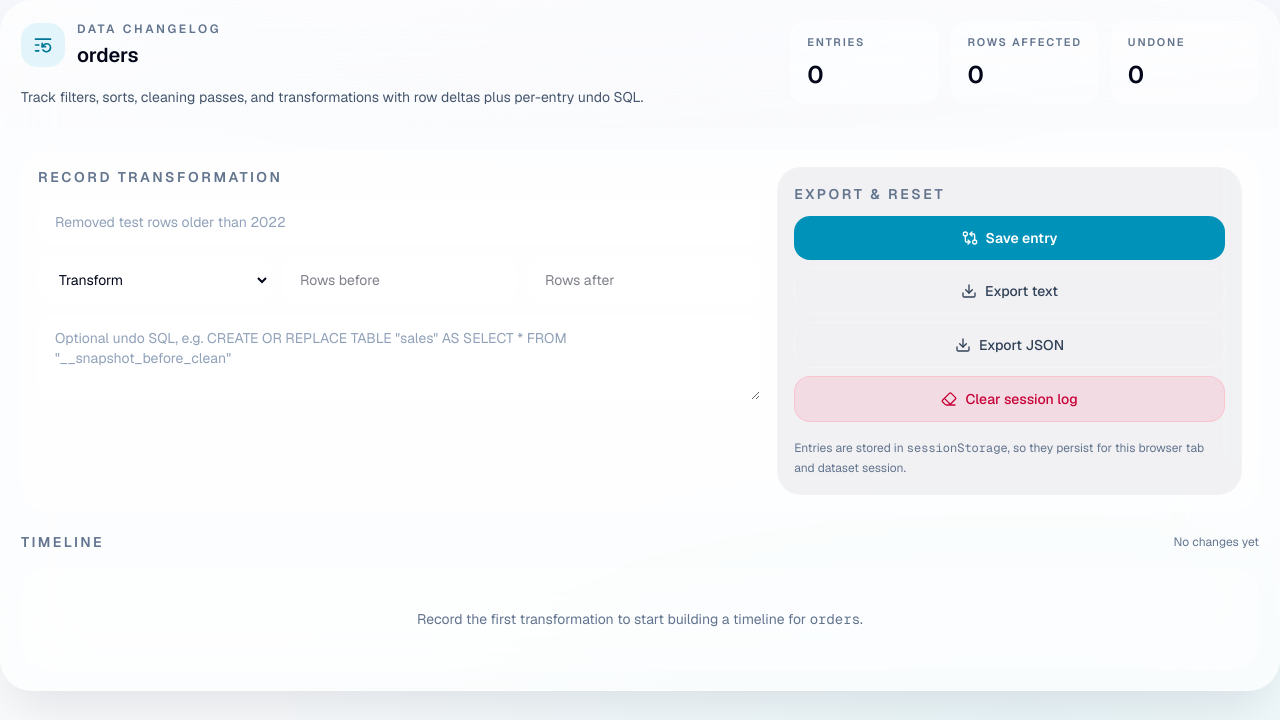
Test: DataChangelog › requires a description before recording an entry
Click the button "Save entry". click: point(1010, 238)
box: top-left (794, 216), bottom-right (1225, 260)
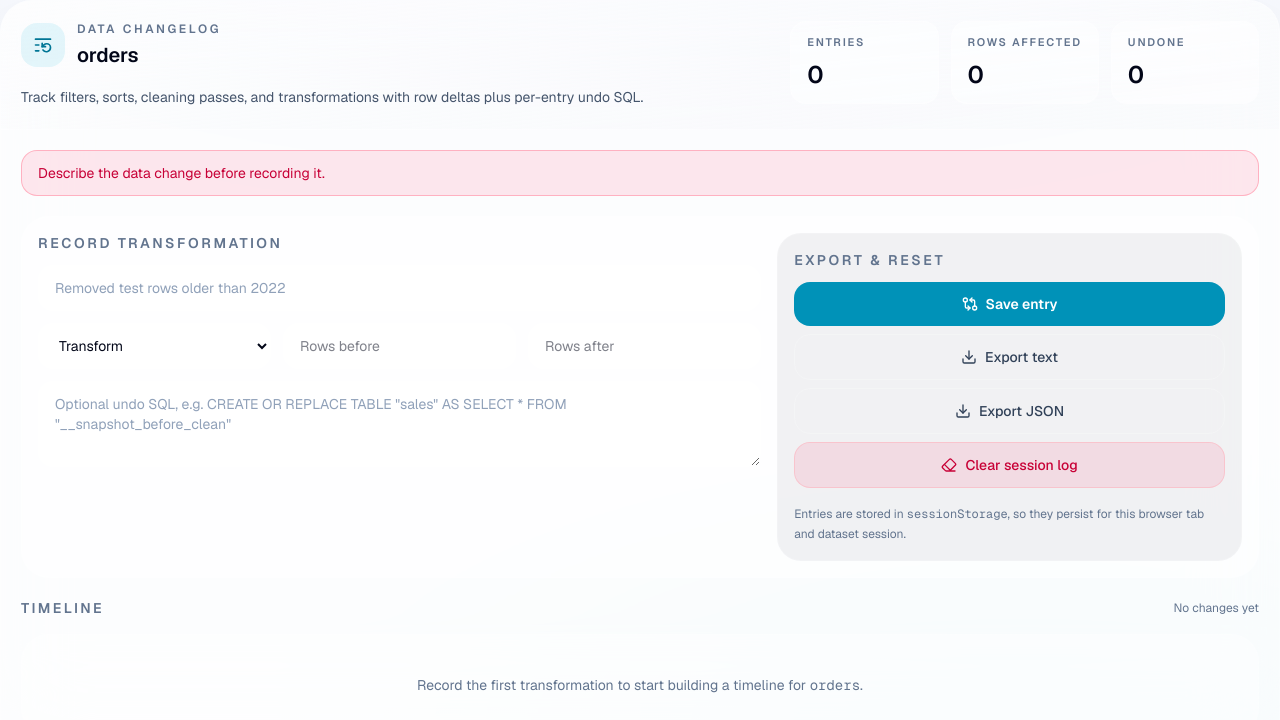
Expected: the text "Describe the data change before recording it." is shown, top-left (21, 150), bottom-right (1259, 196)
